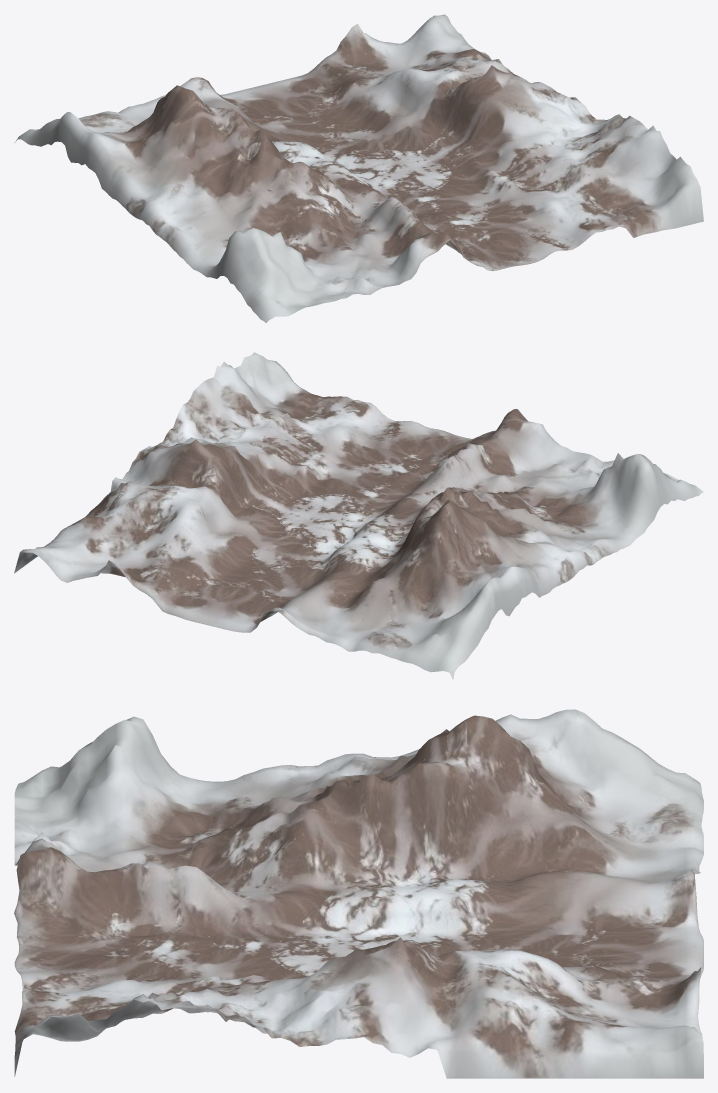
Rendered from NIEUWEBERGJES.FBX.
3 views of the same model, one above another, from view 1: azimuth 30°, elevation 25°; view 2: azimuth 150°, elevation 25°; view 3: azimuth 270°, elevation 25° (orthographic). The views are drawn at different scales.
Visible parts, largest first — view 1: Plane002; view 2: Plane002; view 3: Plane002.
Boxes of the visible parts, left/top/right/bottom form: Plane002: left=15, top=14, right=703, bottom=322; Plane002: left=14, top=352, right=703, bottom=680; Plane002: left=14, top=709, right=703, bottom=1078.
Size of the model in its own units: 996 by 222 by 1001.
Materials: 1 (1 with a texture image).
